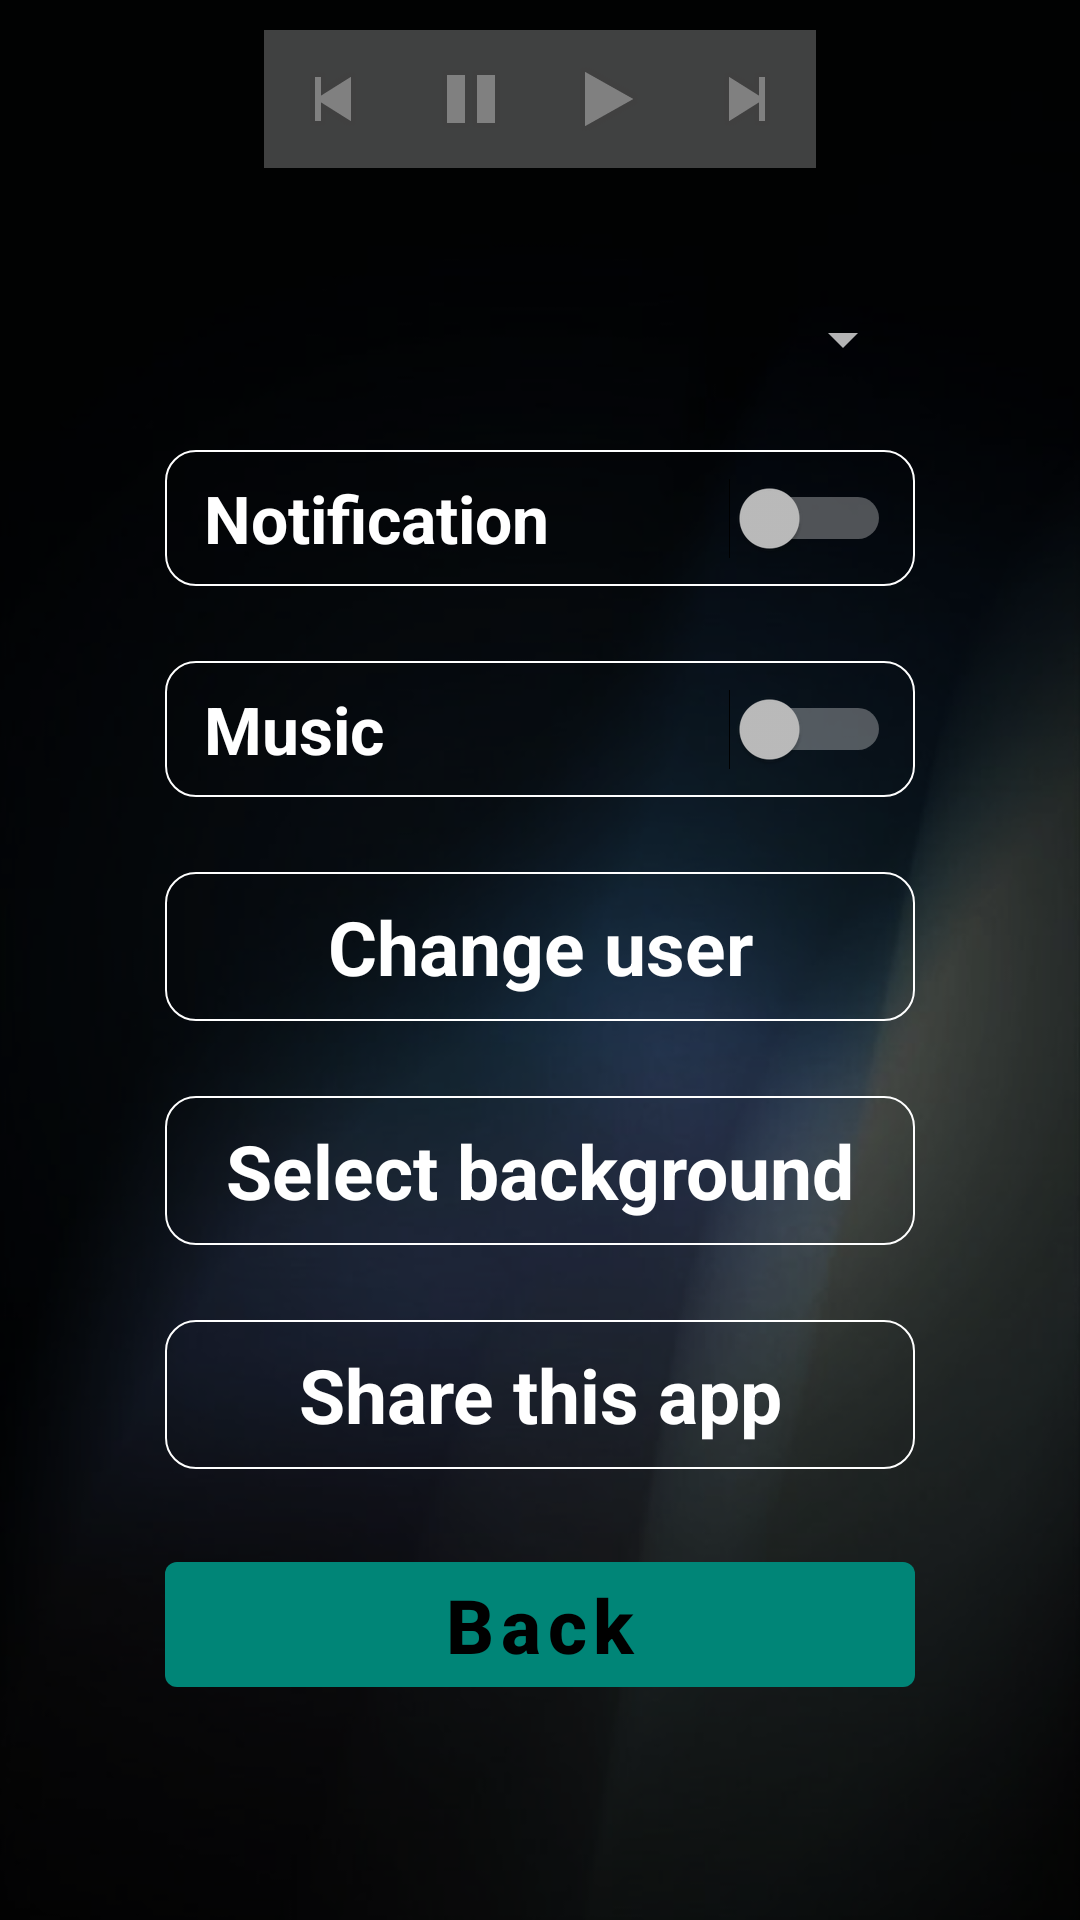

Locate icon controls on the screen. Image size 1080x1920, boxes as (x1, y1, x2, y2).
next: (729, 77, 765, 121)
pause: (447, 75, 495, 123)
play: (585, 72, 633, 126)
previus: (315, 77, 351, 121)
